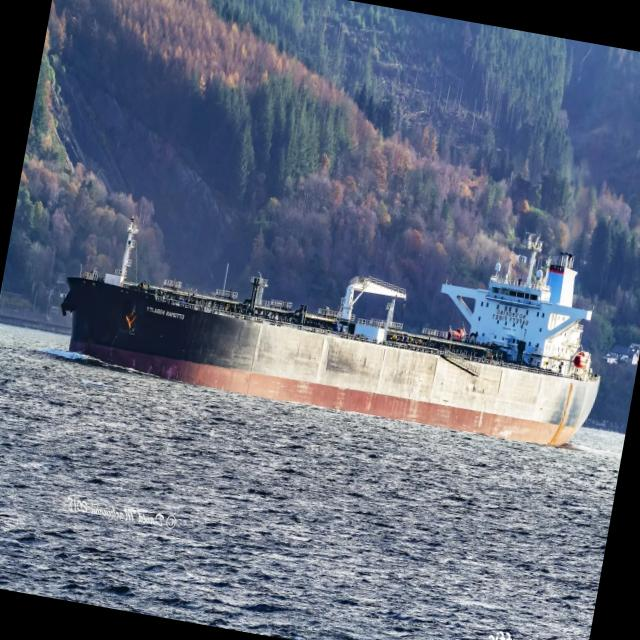Tanker: (61, 233, 600, 444)
